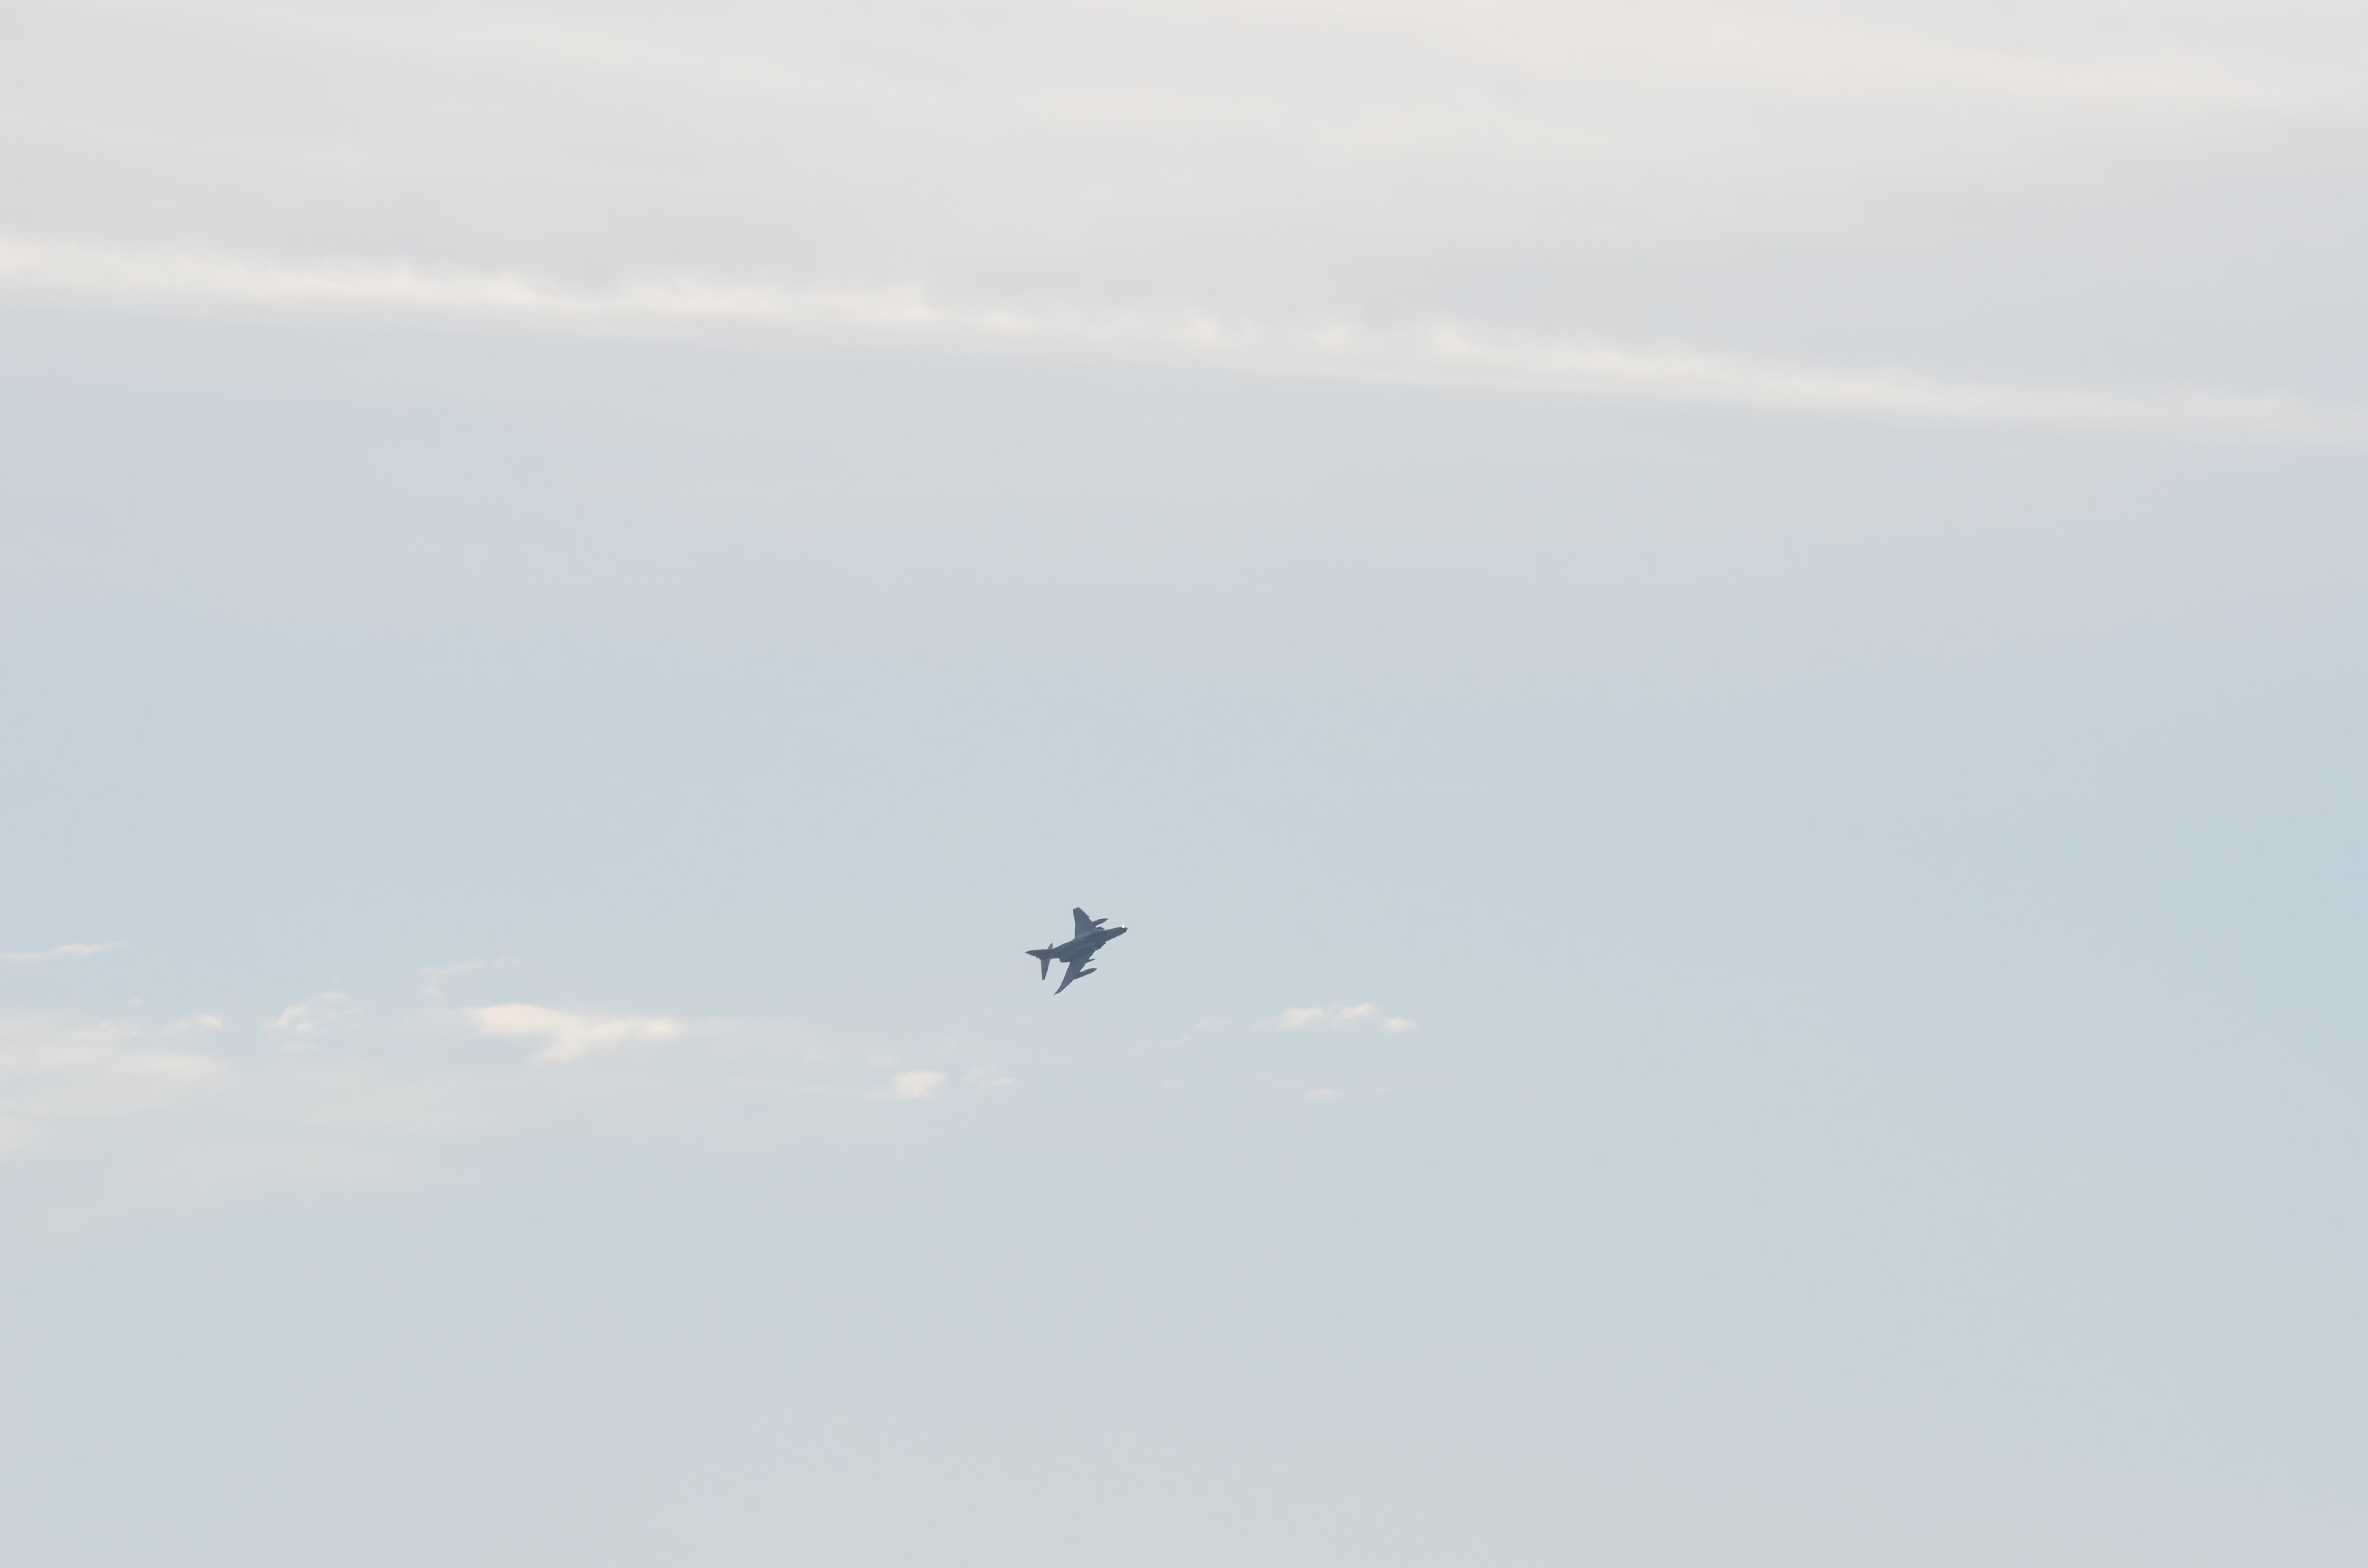F4: (1024, 906, 1132, 996)
